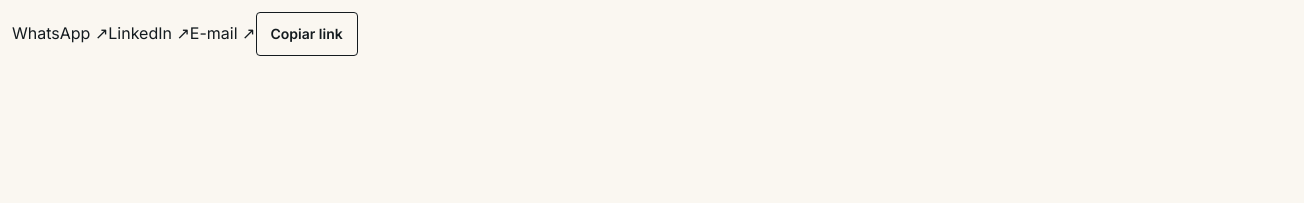
Scenario: failed clipboard copying keeps the manual fallback and does not record a completed share
The image size is (1304, 203).
Click the button "Copiar link": (307, 34) [256,12,358,56]
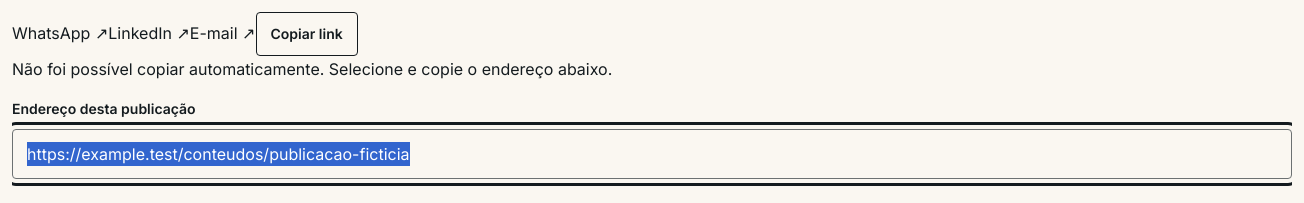
Check: the field labelled "Endereço desta publicação" holds "https://example.test/conteudos/publicacao-ficticia", box [12,129,1292,179]
